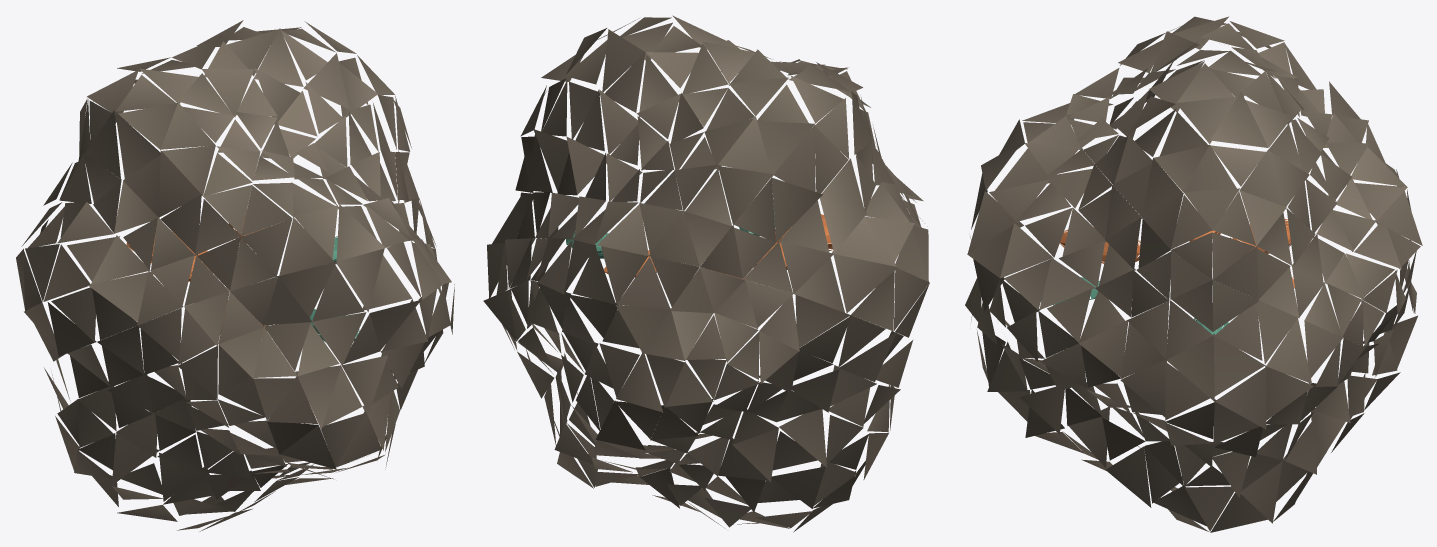
File: mature-lod1.glb
The picture shows the model from 3 angles, left to right: view 1: azimuth 30°, elevation 25°; view 2: azimuth 150°, elevation 25°; view 3: azimuth 270°, elevation 25°; orthographic projection. The views are drawn at different scales.
Parts seen in each view (by area): view 1: copper-host-rock, copper-mineral-seams; view 2: copper-host-rock, copper-mineral-seams; view 3: copper-host-rock, copper-mineral-seams.
Part boxes in pixels (x1,y1,x2,y2): copper-host-rock: [16, 20, 454, 531]; copper-mineral-seams: [126, 210, 359, 342]; copper-host-rock: [483, 15, 929, 532]; copper-mineral-seams: [566, 199, 832, 279]; copper-host-rock: [965, 16, 1422, 532]; copper-mineral-seams: [1041, 219, 1294, 334].
Bounding box in the file's own units: 3.75 × 4.25 × 3.76.
